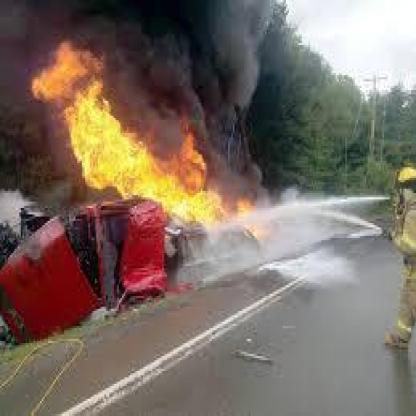fire: (43, 48, 266, 231)
smoke: (7, 0, 289, 105)
